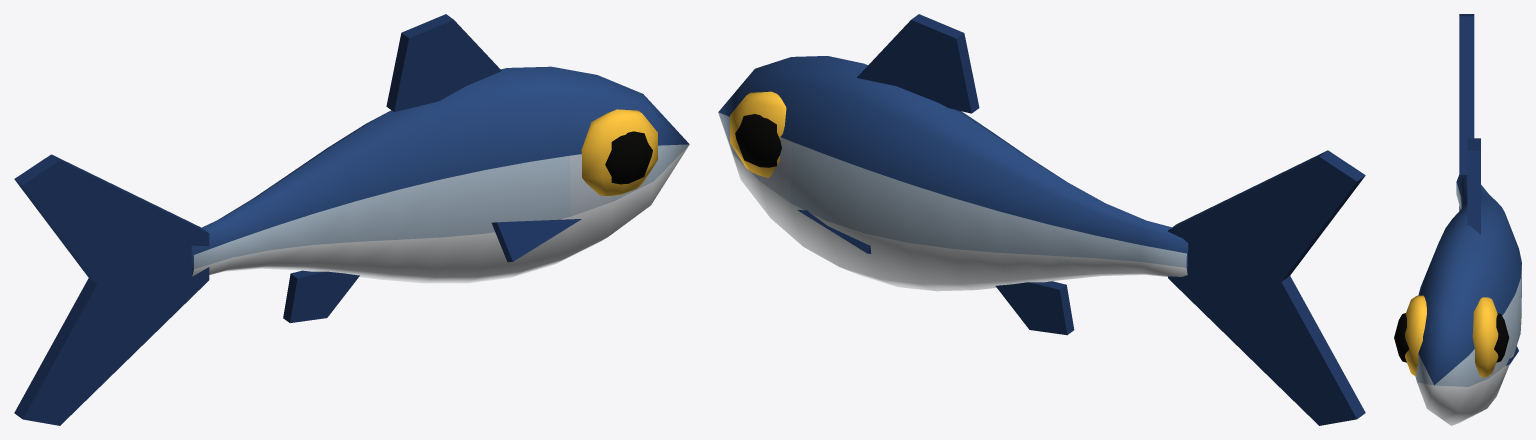
The model's file is bait-ca-con.glb.
3 renders of one model, left to right at view 1: azimuth 30°, elevation 25°; view 2: azimuth 150°, elevation 25°; view 3: azimuth 270°, elevation 25°, orthographic. The views are drawn at different scales.
Parts seen in each view (by area): view 1: body; view 2: body; view 3: body.
Part boxes in pixels (x1,y1,x2,y2): body: (14, 14, 689, 425); body: (718, 14, 1365, 425); body: (1394, 14, 1521, 425).
Size of the model in its own units: 1 by 0.4477 by 0.1948.
